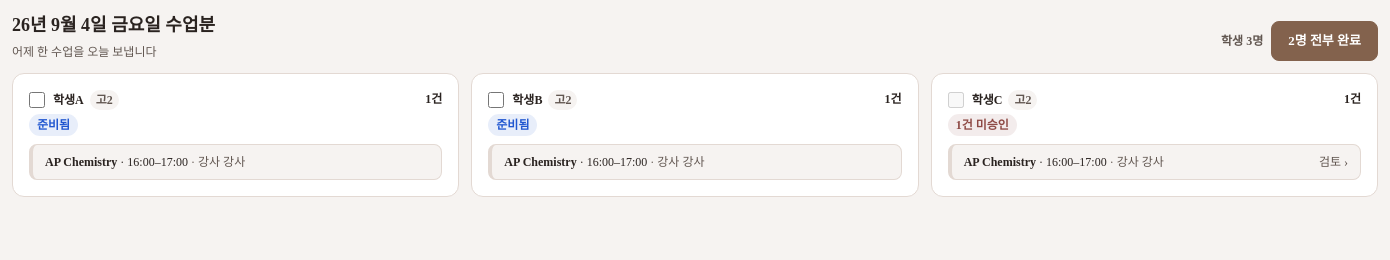
Test: ReportDeliveryQueue — 학생 단위 계약 재사용 › 미승인 학생은 선택하지 않고 PNG를 학생별 요청으로 순차 전송한다
Expected: the checkbox labelled "학생C 고2" is disabled, [948, 92, 964, 108]
What coordinates should you click on to do the following:
click the button "2명 전부 완료"
I would click on:
 (1325, 41)
Its box is [1271, 21, 1378, 61].
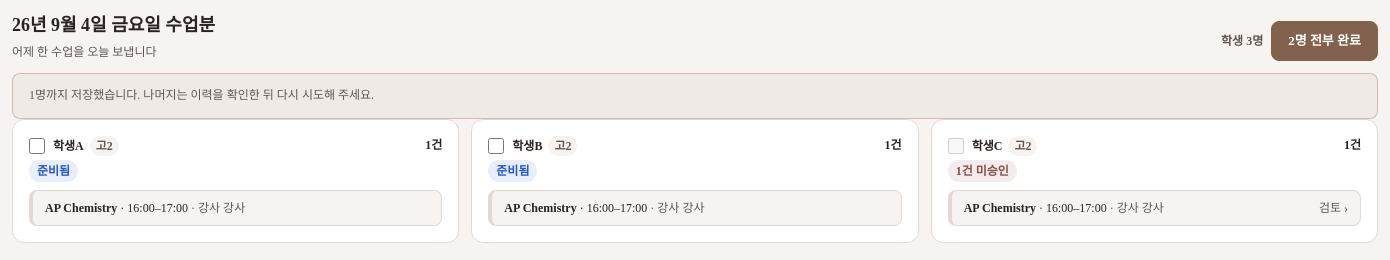
Expected: the text "1명까지 저장했습니다. 나머지는 이력을 확인한 뒤 다시 시도해 주세요." is shown, [29, 88, 374, 102]
